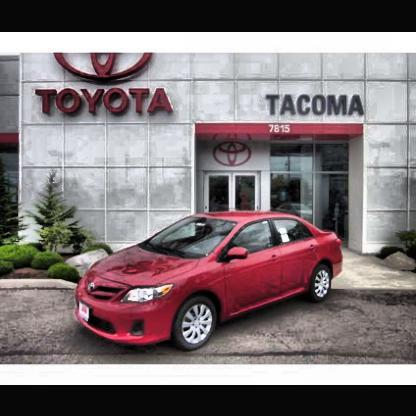Toyota Corolla Sedan 2012: (76, 207, 347, 354)
